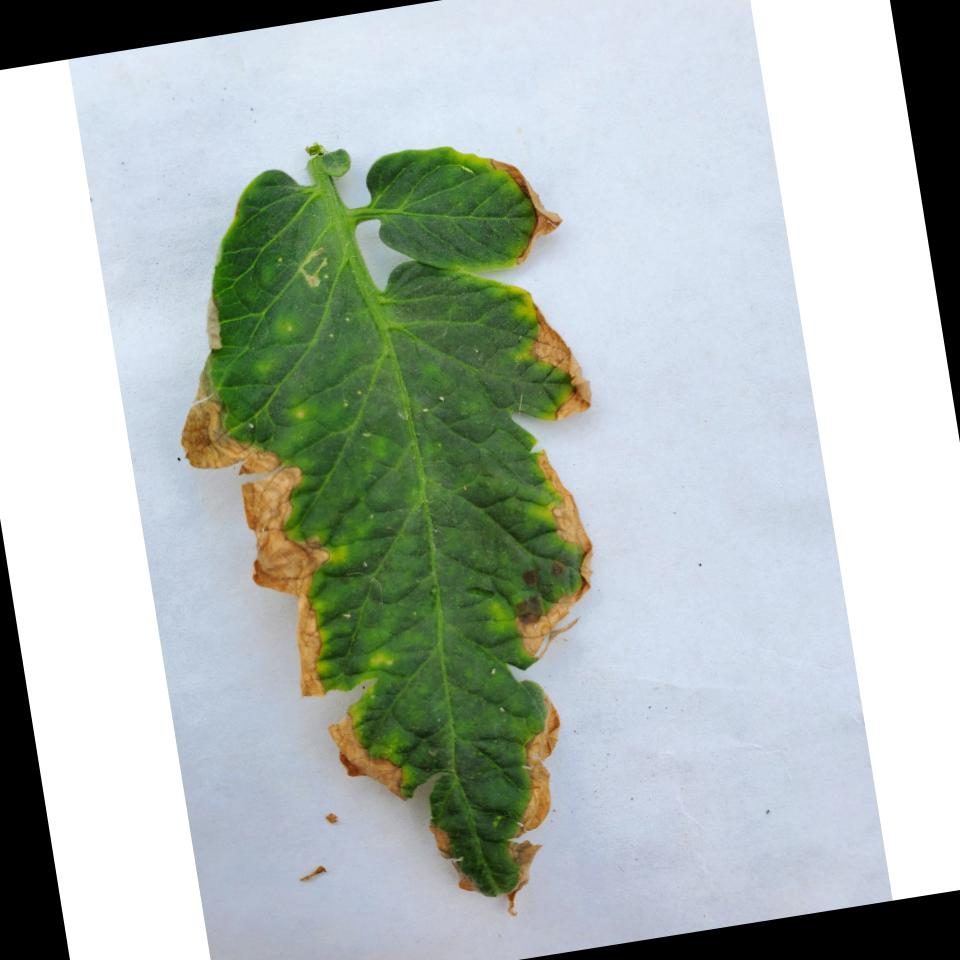tomato_bacterial_blight: (136, 79, 670, 954)
